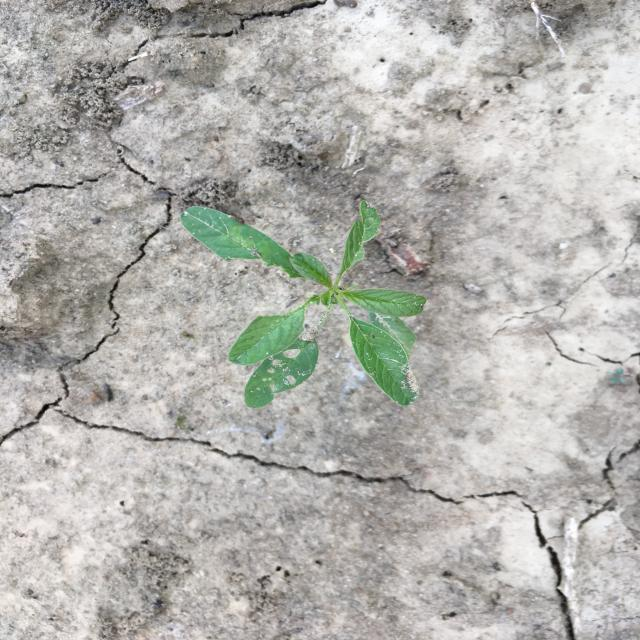Waterhemp: (178, 199, 428, 410)
